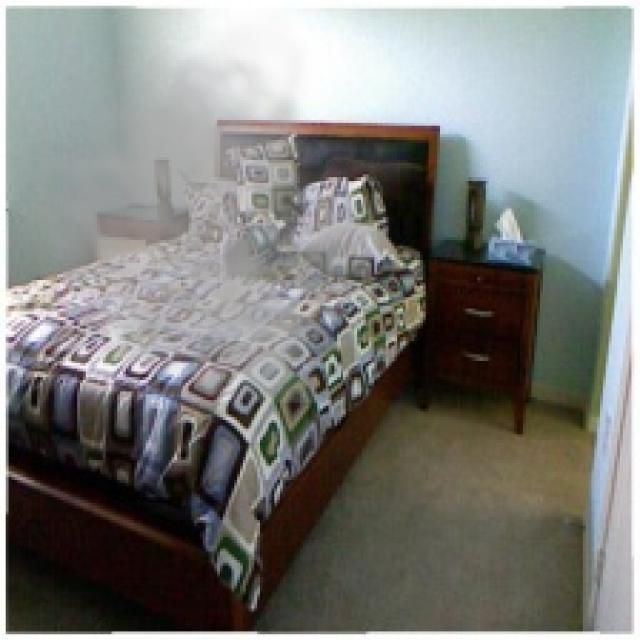smoke: (6, 8, 406, 403)
